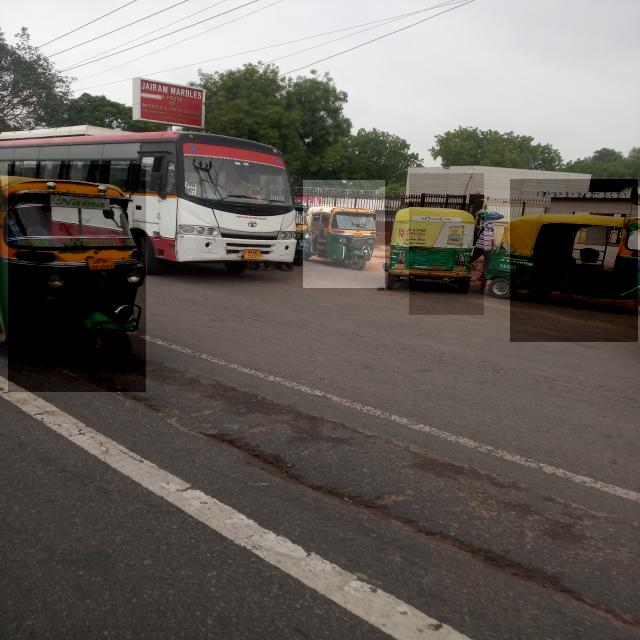Auto: (8, 164, 146, 392), (510, 179, 638, 342), (409, 174, 484, 316), (304, 180, 386, 288)
